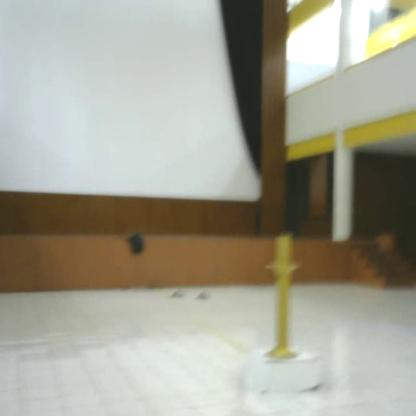pole: (264, 234, 307, 370)
